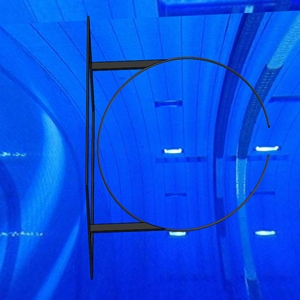circle: (83, 14, 272, 282)
